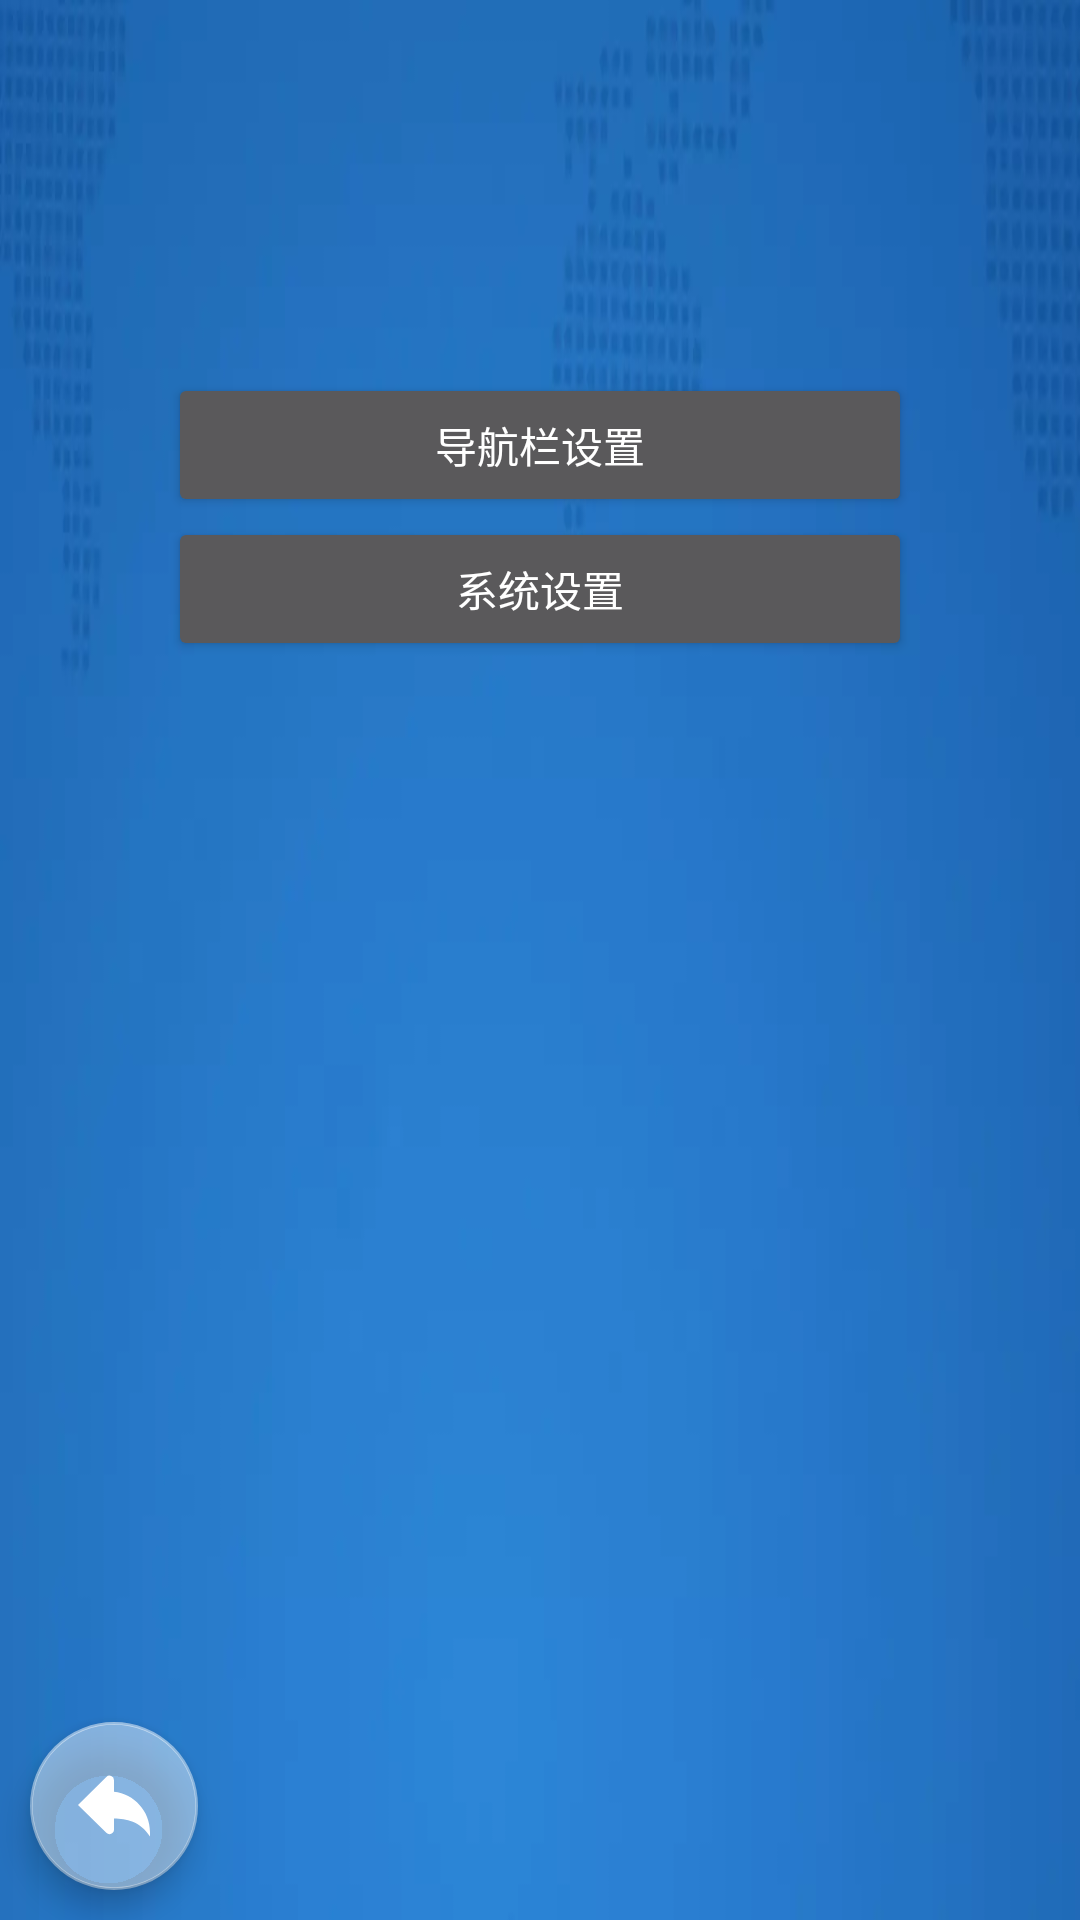

Named icons in this screenshot (1080*1920) and their centers, point (x, y):
back: point (114, 1806)
